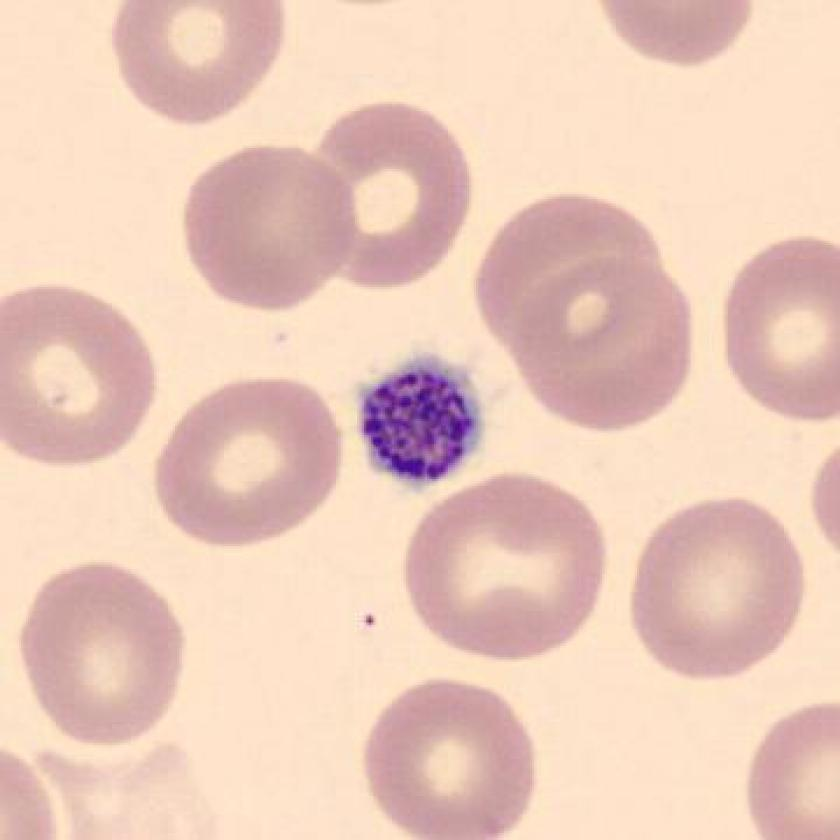platelets: (344, 346, 496, 498)
